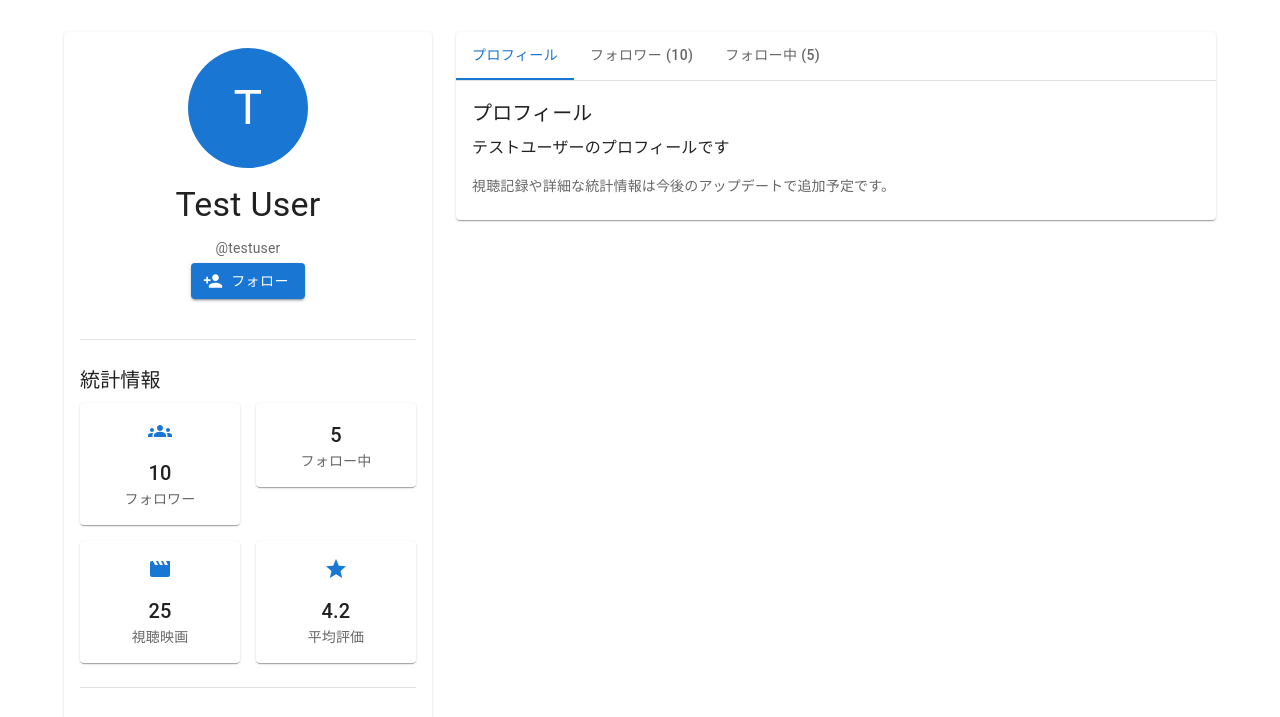
UserProfile › switches to following tab
The width and height of the screenshot is (1280, 717).
Expected: the heading "Test User" is shown, [175, 184, 321, 226]
Click the tab "フォロー中 (5)" at (773, 56), box [709, 32, 836, 80]
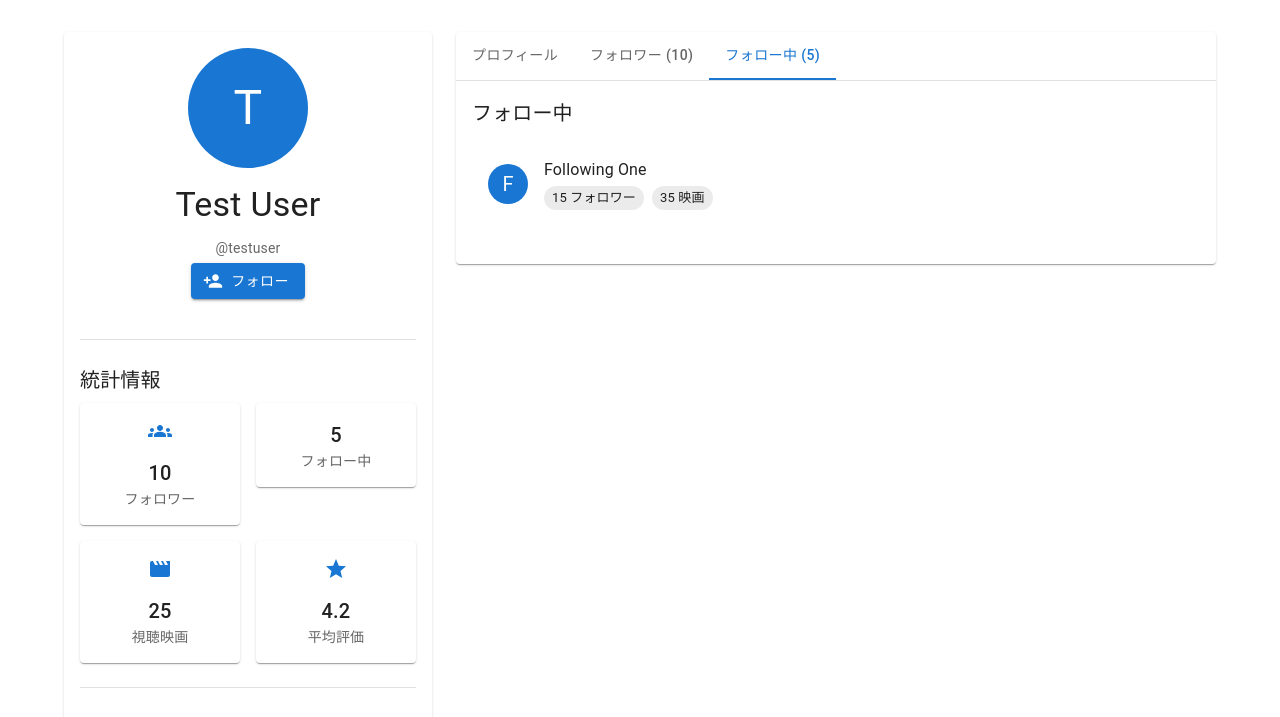
Result: the text "Following One" is shown at [544, 160, 647, 179]
